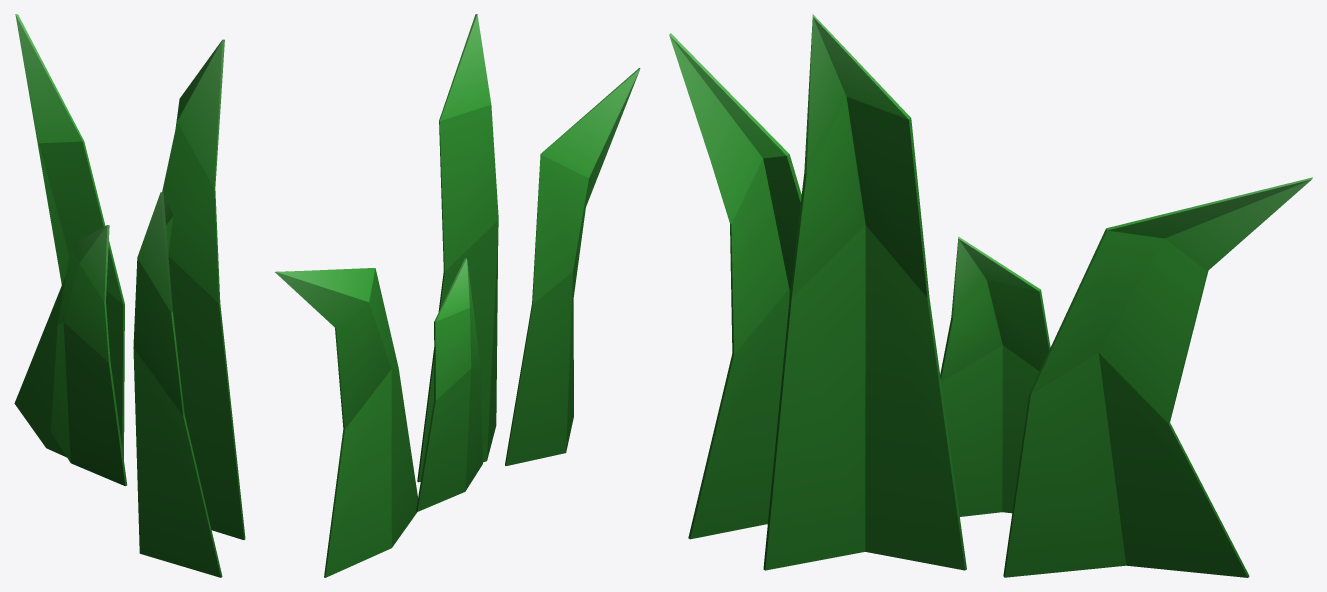
File: Grass-1-2.fbx
The picture shows the model from 3 angles, left to right: view 1: azimuth 30°, elevation 25°; view 2: azimuth 150°, elevation 25°; view 3: azimuth 270°, elevation 25°; orthographic projection. The views are drawn at different scales.
Parts seen in each view (by area): view 1: Grass-1-2; view 2: Grass-1-2; view 3: Grass-1-2.
Boxes of the visible parts, bbox=[...] form: Grass-1-2: bbox=[14, 14, 245, 577]; Grass-1-2: bbox=[275, 14, 640, 577]; Grass-1-2: bbox=[669, 14, 1312, 577].
Size of the model in its own units: 20.47 by 71.05 by 72.44.
